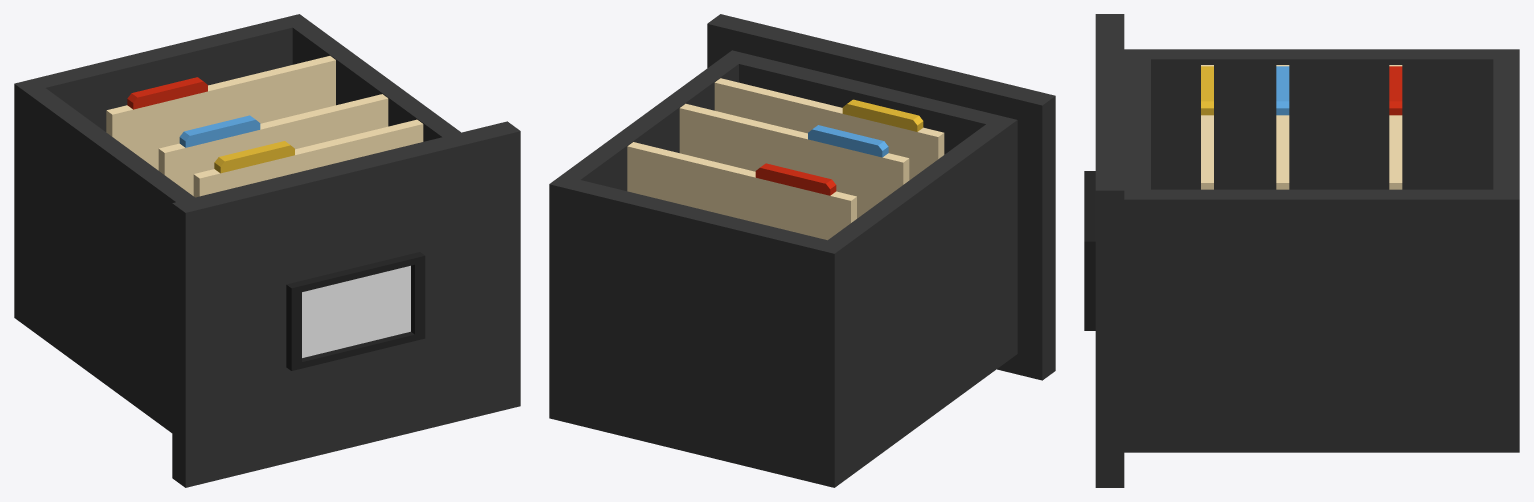
File: administrative_and_support_services.gltf
3 views of the same model, side by side, from view 1: azimuth 30°, elevation 25°; view 2: azimuth 150°, elevation 25°; view 3: azimuth 270°, elevation 25° (orthographic). The views are drawn at different scales.
Visible parts, largest first — view 1: Administrative and Support Services; view 2: Administrative and Support Services; view 3: Administrative and Support Services.
Boxes of the visible parts, <box> form: Administrative and Support Services: <box>14,14,520,487</box>; Administrative and Support Services: <box>549,14,1055,487</box>; Administrative and Support Services: <box>1084,14,1519,487</box>.
Bounding box in the file's own units: 0.9531 × 0.7471 × 0.9926.
1 material, 1 textured.
